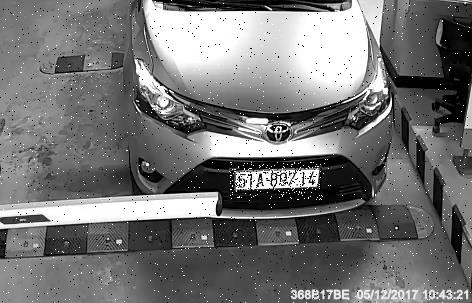License-plate: (230, 164, 323, 202)
